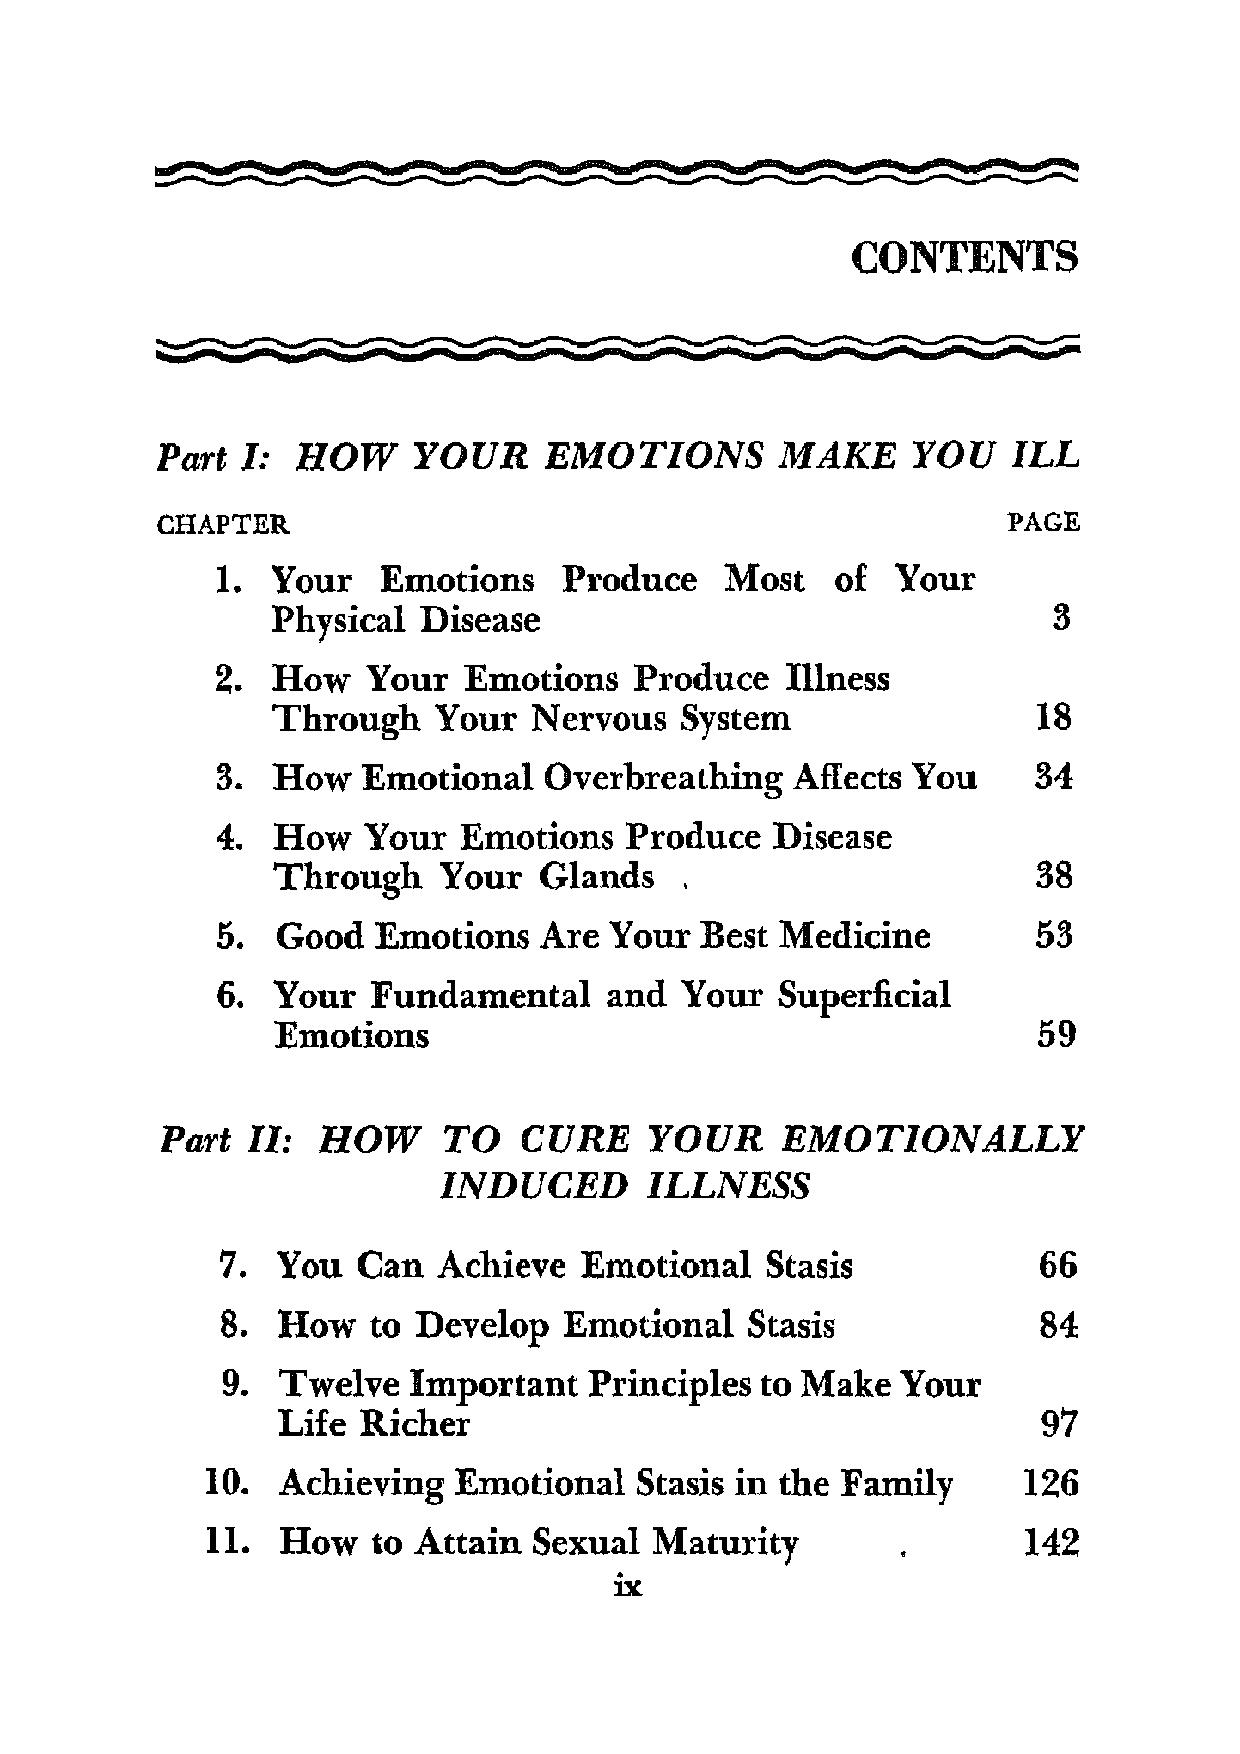TOC_chapter: (158, 1115, 1090, 1205), (205, 560, 980, 639), (220, 1363, 986, 1443), (203, 658, 913, 741), (215, 977, 955, 1049), (212, 817, 900, 892), (149, 433, 1084, 475), (203, 1461, 958, 1506), (211, 914, 937, 956), (209, 758, 985, 796), (213, 1245, 854, 1286), (201, 1520, 798, 1562), (213, 1307, 836, 1343)
TOC_pagenumber: (1021, 1468, 1091, 1500), (1033, 694, 1076, 739), (1023, 1526, 1083, 1558), (1033, 855, 1079, 894), (1031, 757, 1079, 790), (1036, 1248, 1079, 1286), (1037, 1402, 1078, 1441), (1031, 918, 1075, 950), (1035, 1015, 1075, 1049), (1041, 1306, 1078, 1342), (1049, 600, 1078, 637)
chapter: (847, 239, 1082, 276)
